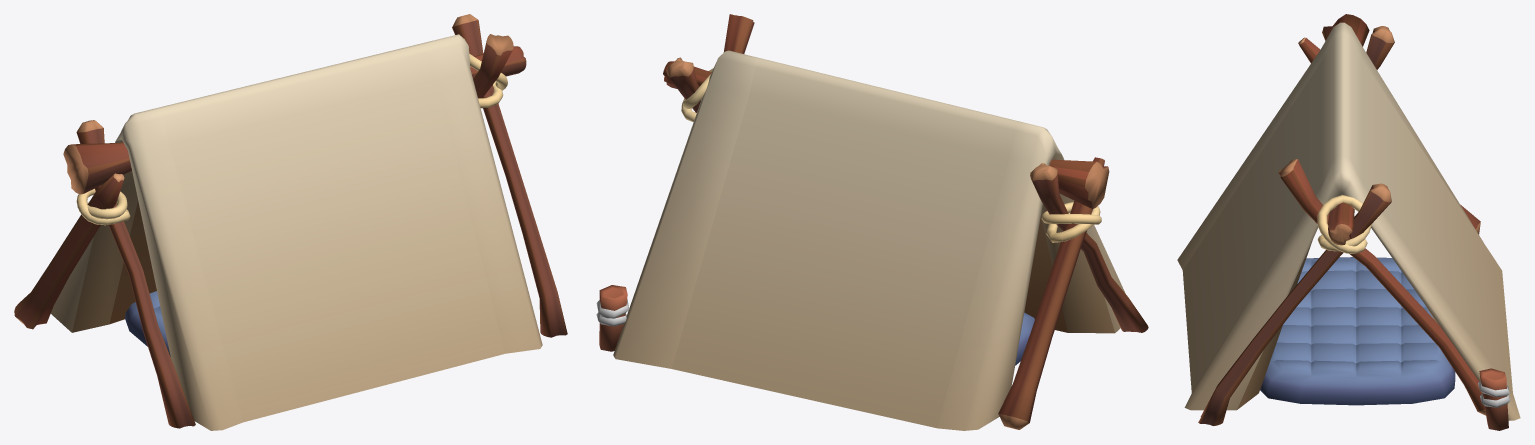
Rendered from Tent_01.fbx.
3 views of the same model, side by side, from view 1: azimuth 30°, elevation 25°; view 2: azimuth 150°, elevation 25°; view 3: azimuth 270°, elevation 25° (orthographic). The views are drawn at different scales.
Visible parts, largest first — view 1: Tent_01; view 2: Tent_01; view 3: Tent_01.
Boxes of the visible parts, x1,y1,x2,y2 form: Tent_01: (14, 14, 567, 430); Tent_01: (596, 14, 1148, 430); Tent_01: (1177, 14, 1520, 430).
Size of the model in its own units: 472 by 273 by 335.
